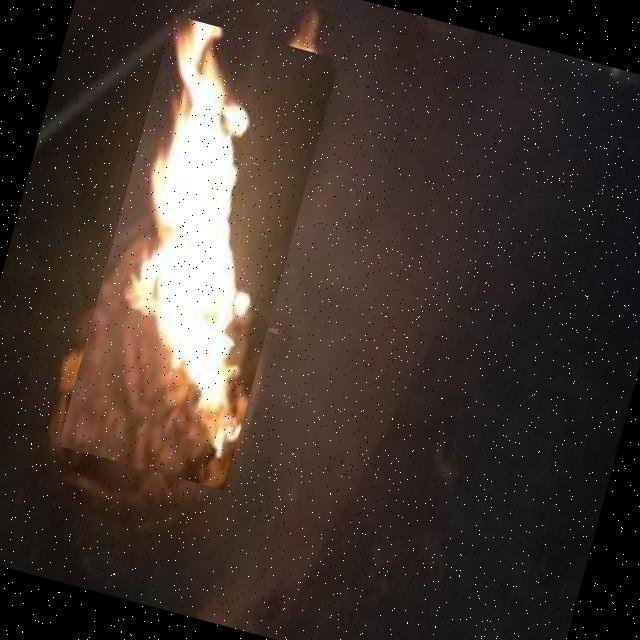fire: (58, 14, 340, 490)
